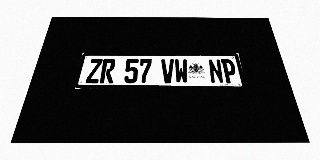5: (124, 59, 139, 83)
7: (138, 59, 152, 83)
N: (208, 59, 224, 83)
P: (221, 59, 238, 83)
R: (99, 59, 116, 83)
V: (161, 59, 175, 83)
W: (174, 59, 189, 83)
Z: (85, 59, 103, 83)
